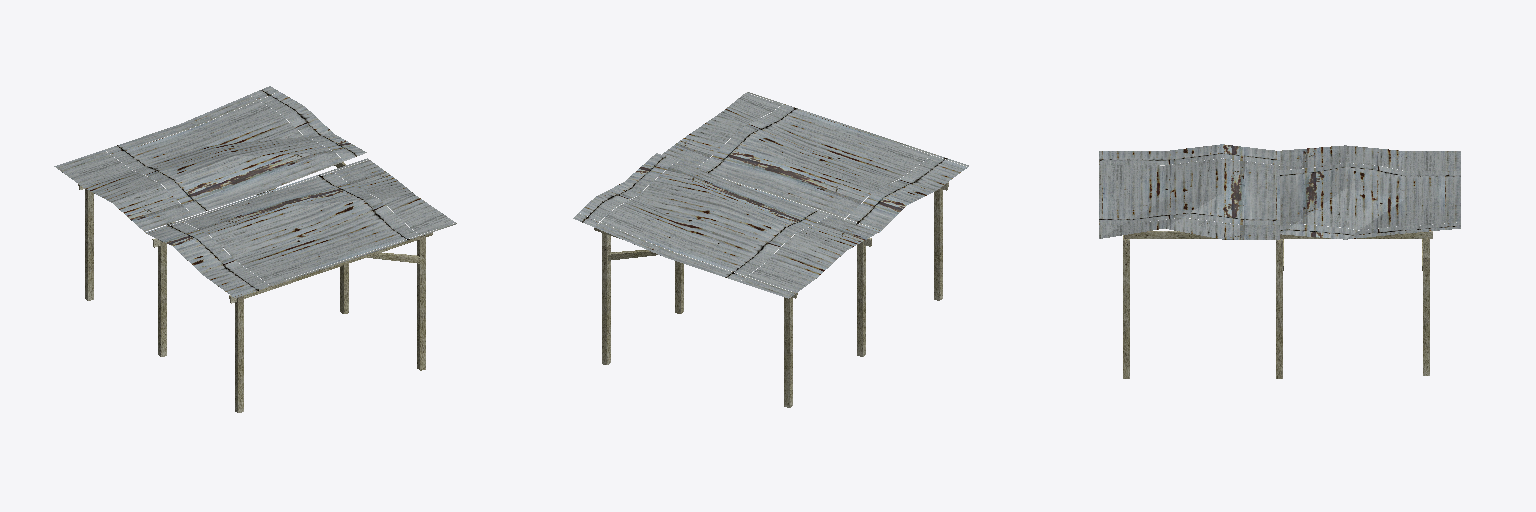
3 renders of one model, left to right at view 1: azimuth 30°, elevation 25°; view 2: azimuth 150°, elevation 25°; view 3: azimuth 270°, elevation 25°, orthographic.
Visible parts, largest first — view 1: rust, woodplank; view 2: rust, woodplank; view 3: rust, woodplank.
Boxes of the visible parts, x1,y1,x2,y2 form: rust: [54, 86, 456, 297]; woodplank: [78, 162, 432, 412]; rust: [573, 92, 968, 298]; woodplank: [594, 182, 948, 407]; rust: [1099, 144, 1460, 239]; woodplank: [1123, 231, 1432, 378].
Bounding box in the file's own units: 5.91 × 3.97 × 8.32.
Materials: 2 (2 with a texture image).